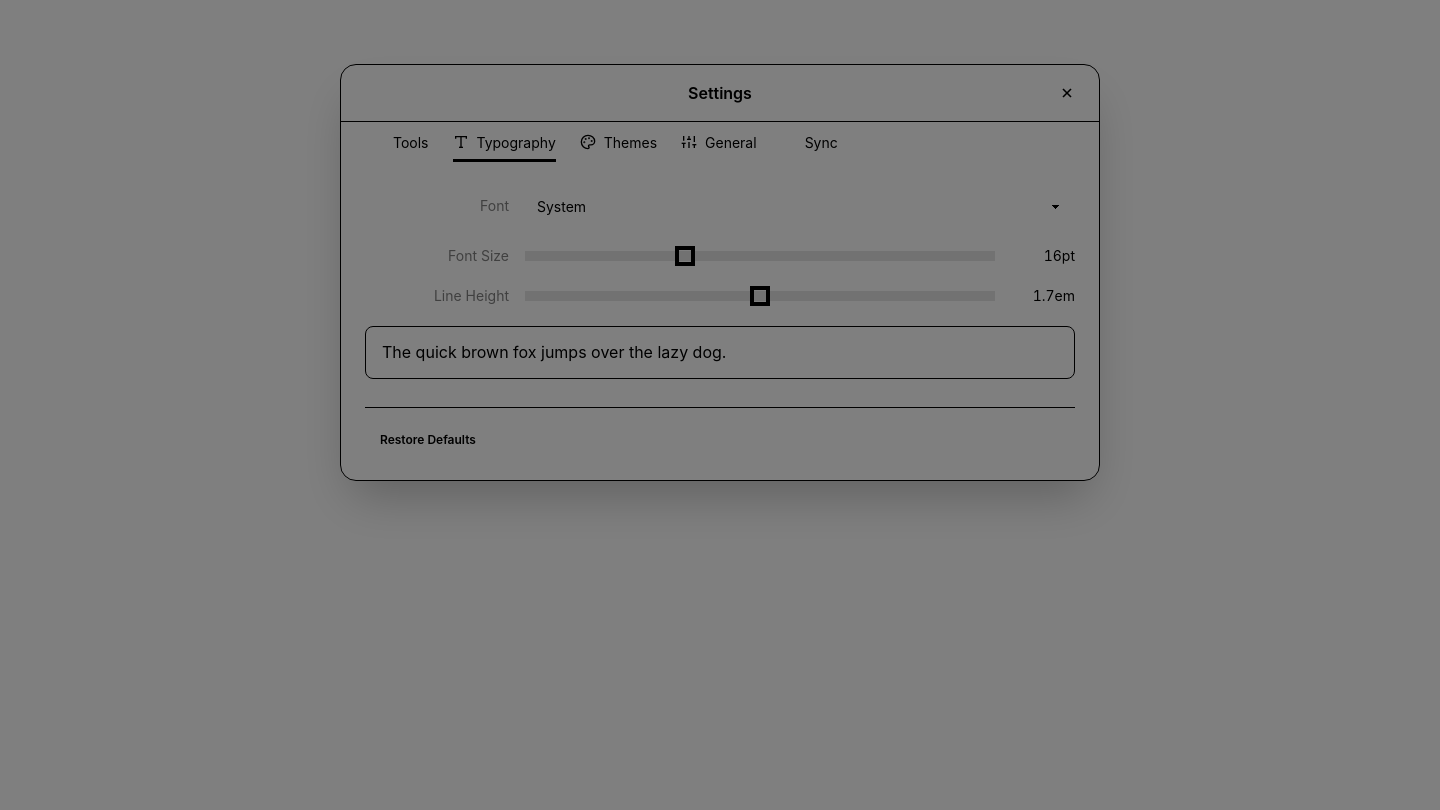
Test: SettingsModal General tab toggles › renders each setting as a labeled DaisyUI toggle at its default
Click the tab "General" at coordinates (719, 142), box x1=669 y1=122 x2=769 y2=162
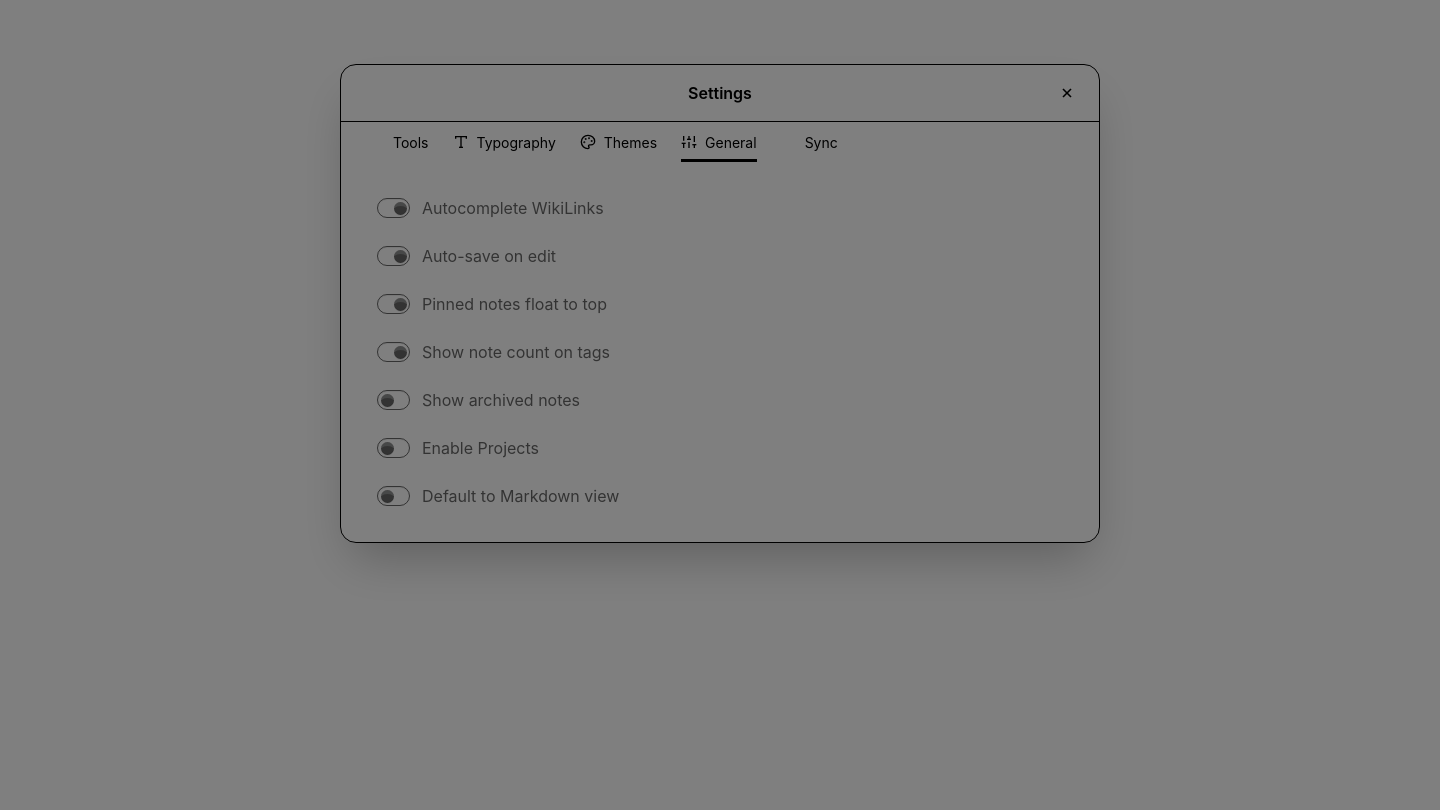
Check: the checkbox labelled "Autocomplete WikiLinks" is checked, box x1=377 y1=198 x2=410 y2=218
Check: the checkbox labelled "Auto-save on edit" is checked, box x1=377 y1=246 x2=410 y2=266
Check: the checkbox labelled "Pinned notes float to top" is checked, box x1=377 y1=294 x2=410 y2=314
